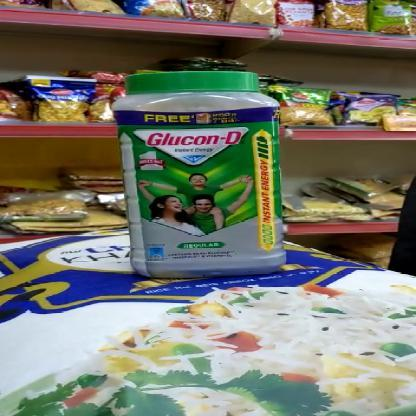Glucon D Regular 2-KG: (115, 72, 284, 275)
